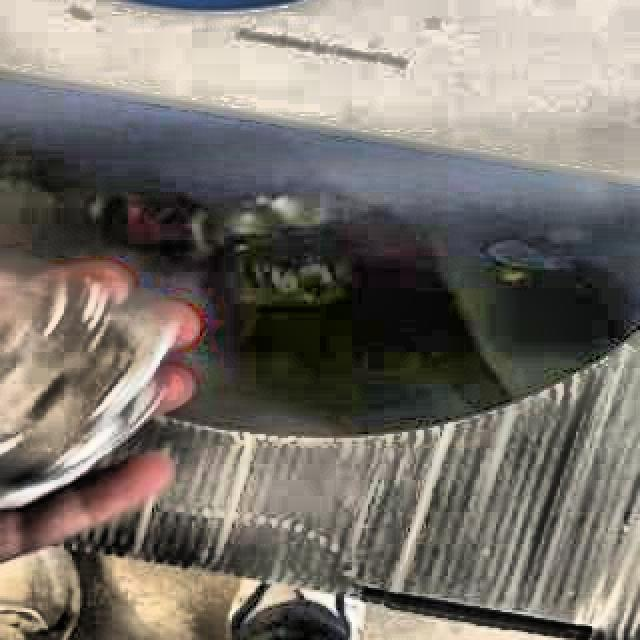metal: (0, 261, 176, 508)
